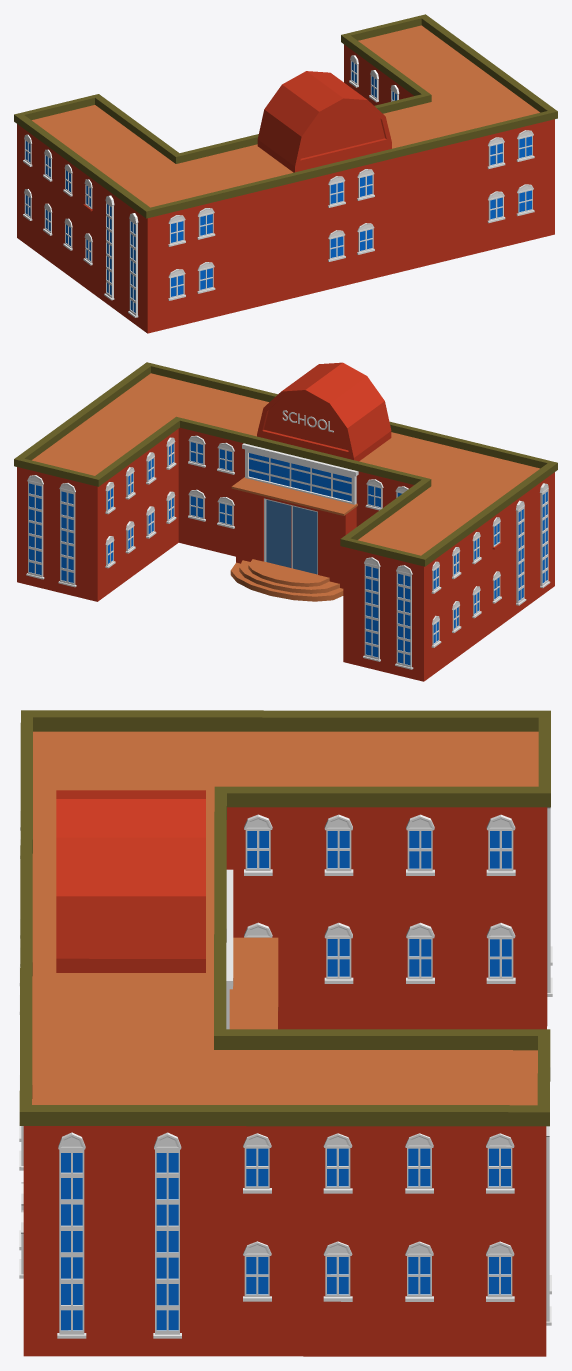
File: school.glb
The picture shows the model from 3 angles, top to bottom: view 1: azimuth 30°, elevation 25°; view 2: azimuth 150°, elevation 25°; view 3: azimuth 270°, elevation 25°; orthographic projection. The views are drawn at different scales.
Visible parts, largest first — view 1: School_1_Color_Palette_0; view 2: School_1_Color_Palette_0; view 3: School_1_Color_Palette_0.
Boxes of the visible parts, <box> form: School_1_Color_Palette_0: <box>14,14,557,333</box>; School_1_Color_Palette_0: <box>14,362,557,681</box>; School_1_Color_Palette_0: <box>19,710,552,1356</box>.
Size of the model in its own units: 3.31 by 1.39 by 1.85.
1 material, 1 textured.
